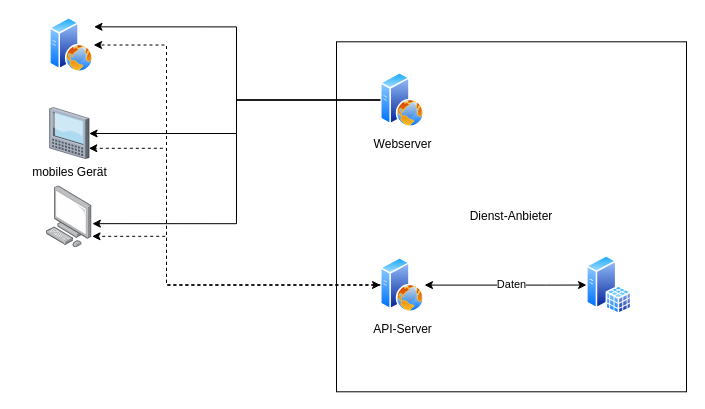
Some shapes in this 705 by 409 pixel diagram are drawn without their labels. Each missing label, with the box of its shape:
Datenbank-Server: (586, 255, 632, 314)
Dritt-Dienst-Anbieter: (49, 17, 93, 72)
